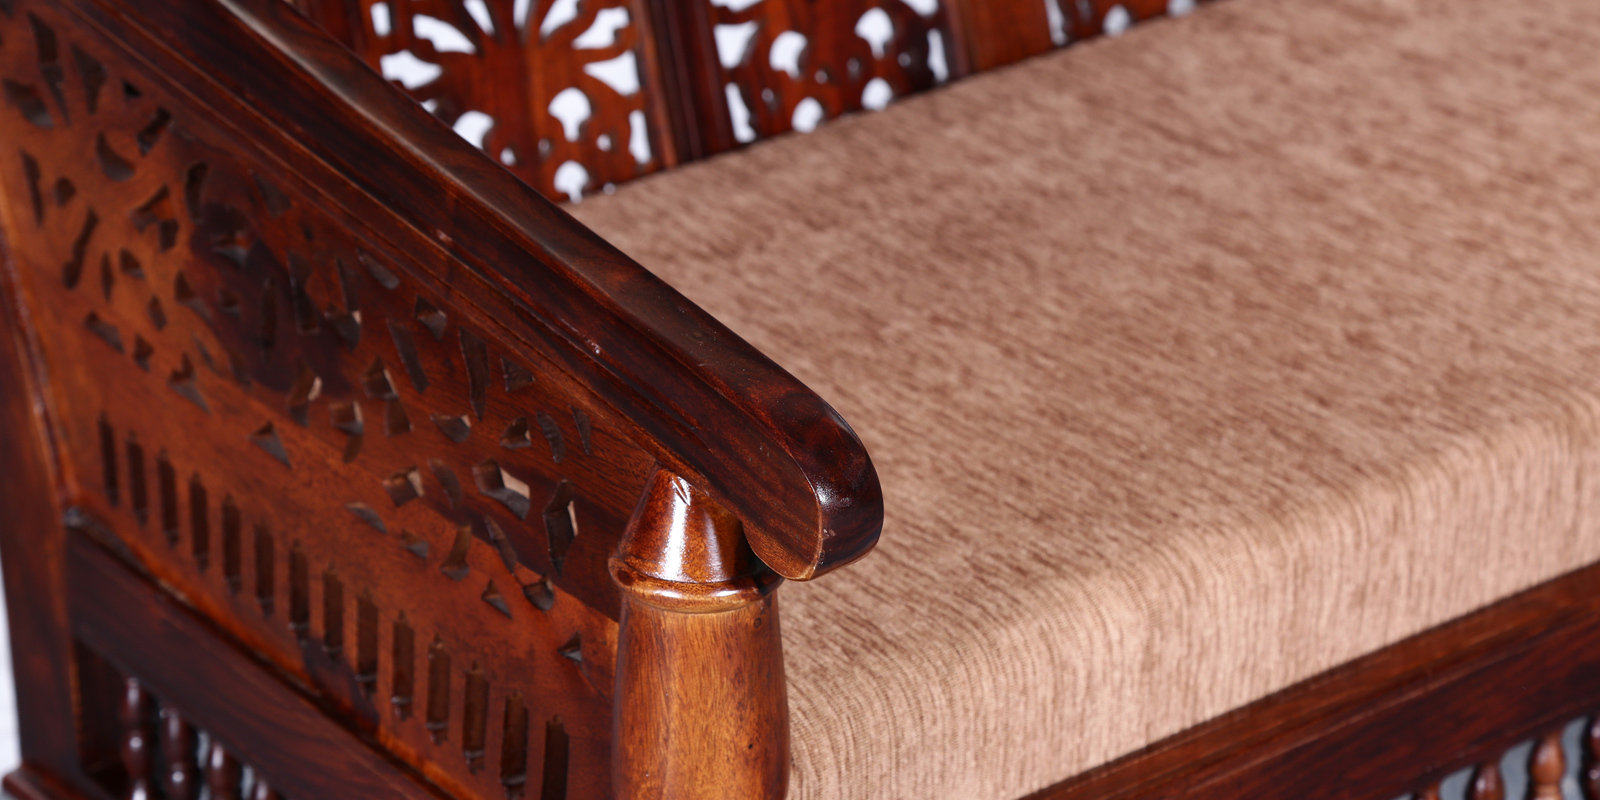Maurya Handcrafted Three Seater Sofa in Honey Oak Finish by Mudramark: (1, 1, 1600, 800)
